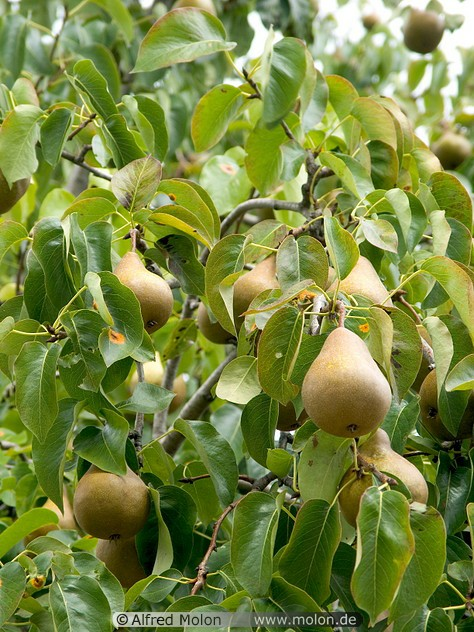pear: (304, 326, 391, 438), (341, 424, 430, 528), (74, 433, 151, 539), (199, 255, 286, 342), (95, 247, 176, 331), (323, 246, 392, 323)
